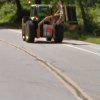Tractor: (18, 2, 73, 45)
